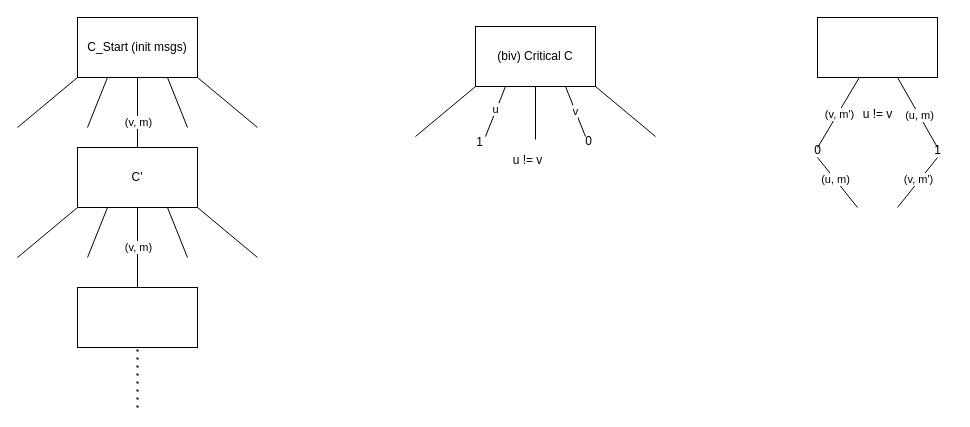
Image size: 970x427. Some labels were removed from this diagram. Here are the shapes that lost their labels. From the top down, the centre of each, then its label:
At (877,47): "Critical".
At (137,317): "C''".
